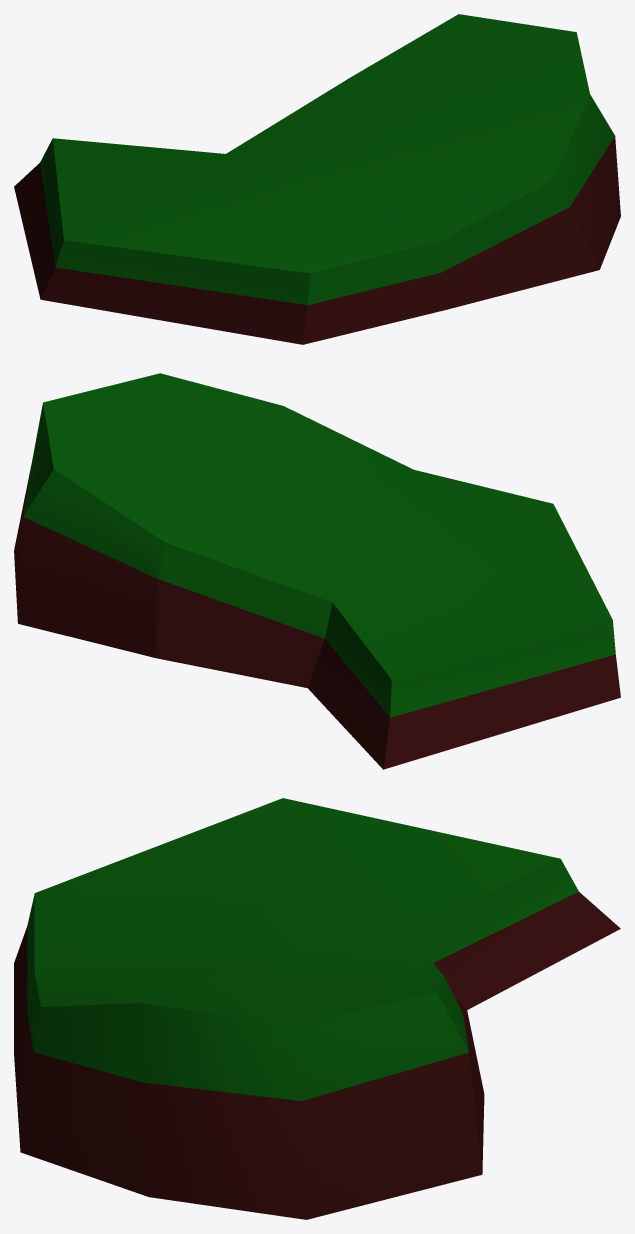
File: Land 4.FBX
The picture shows the model from 3 angles, top to bottom: view 1: azimuth 30°, elevation 25°; view 2: azimuth 150°, elevation 25°; view 3: azimuth 270°, elevation 25°; orthographic projection. The views are drawn at different scales.
Parts seen in each view (by area): view 1: Box001; view 2: Box001; view 3: Box001.
Part boxes in pixels (box(x1,y1,x2,y2)): Box001: box(14, 14, 620, 344); Box001: box(14, 373, 620, 769); Box001: box(14, 798, 620, 1219).
Bounding box in the file's own units: 8330 × 1990 × 6074.
